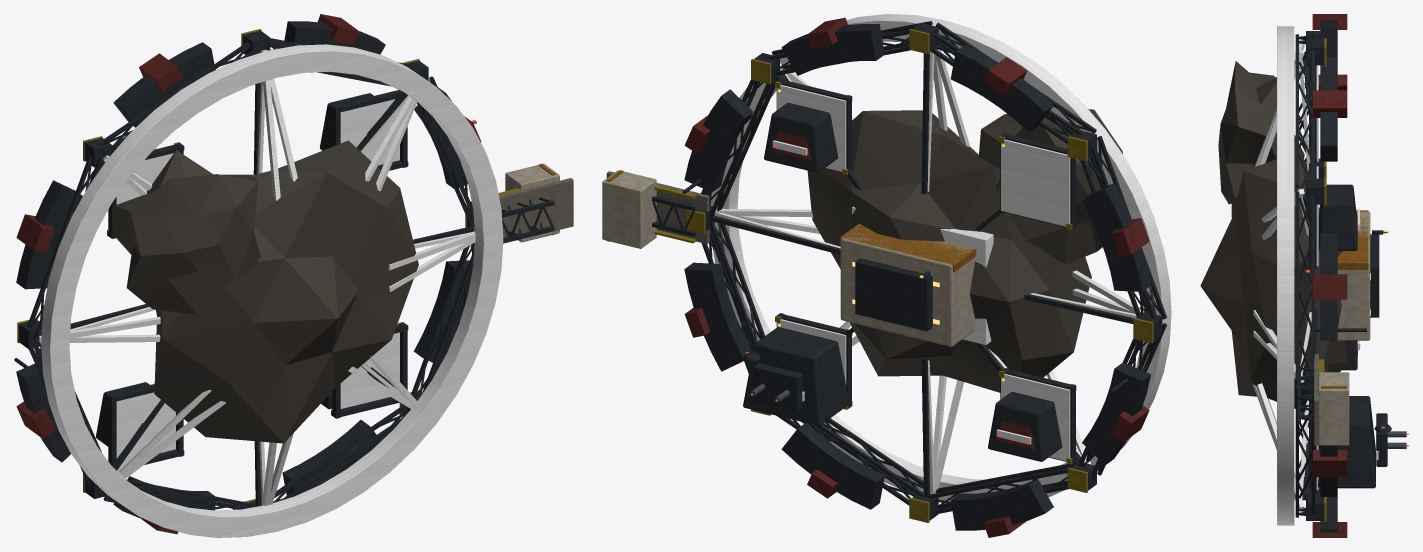
Rendered from place_claim_outpost_bastion.glb.
The picture shows the model from 3 angles, left to right: view 1: azimuth 30°, elevation 25°; view 2: azimuth 150°, elevation 25°; view 3: azimuth 270°, elevation 25°; orthographic projection. The views are drawn at different scales.
Parts seen in each view (by area): view 1: LOD0_Stone, LOD0_MechanicalDark, LOD0_Armor, LOD1_Armor, LOD1_MechanicalDark, LOD0_Hull_role, LOD0_Hull_aged, LOD0_Hull; view 2: LOD0_Armor, LOD0_Stone, LOD0_MechanicalDark, LOD1_Armor, LOD0_Hull, LOD0_Hull_role, LOD1_Hull, LOD0_Warning, LOD1_MechanicalDark, LOD1_Livery, LOD0_Livery, LOD0_Hull_aged; view 3: LOD0_Armor, LOD0_Stone, LOD0_MechanicalDark, LOD0_Hull, LOD0_Hull_role, LOD1_Armor, LOD1_Hull, LOD0_Livery, LOD1_Livery, LOD1_MechanicalDark, LOD0_Hull_aged, LOD2_Armor (+2 smaller).
Boxes of the visible parts, x1,y1,x2,y2 form: LOD0_Stone: [113, 140, 418, 443]; LOD0_MechanicalDark: [39, 44, 503, 537]; LOD0_Armor: [14, 21, 554, 519]; LOD1_Armor: [27, 27, 554, 517]; LOD1_MechanicalDark: [39, 44, 503, 537]; LOD0_Hull_role: [16, 14, 481, 534]; LOD0_Hull_aged: [470, 178, 573, 248]; LOD0_Hull: [505, 163, 559, 242]; LOD0_Armor: [652, 21, 1166, 530]; LOD0_Stone: [807, 109, 1122, 392]; LOD0_MechanicalDark: [710, 14, 1171, 501]; LOD1_Armor: [652, 21, 1166, 530]; LOD0_Hull: [602, 170, 974, 346]; LOD0_Hull_role: [684, 17, 1149, 537]; LOD1_Hull: [602, 171, 974, 346]; LOD0_Warning: [654, 29, 1153, 522]; LOD1_MechanicalDark: [714, 20, 1170, 496]; LOD1_Livery: [607, 170, 976, 271]; LOD0_Livery: [606, 170, 976, 272]; LOD0_Hull_aged: [606, 171, 709, 243]; LOD0_Armor: [1295, 20, 1389, 532]; LOD0_Stone: [1200, 61, 1347, 412]; LOD0_MechanicalDark: [1253, 26, 1378, 525]; LOD0_Hull: [1318, 211, 1370, 445]; LOD0_Hull_role: [1312, 14, 1357, 537]; LOD1_Armor: [1295, 34, 1391, 517]; LOD1_Hull: [1318, 212, 1369, 445]; LOD0_Livery: [1321, 210, 1368, 388]; LOD1_Livery: [1321, 210, 1368, 388]; LOD1_MechanicalDark: [1254, 52, 1309, 507]; LOD0_Hull_aged: [1314, 354, 1318, 445]; LOD2_Armor: [1299, 36, 1391, 515].
Size of what is drawn, in the model's own units: 98.2 by 83.4 by 33.74.
Materials: 13 (8 with a texture image).
